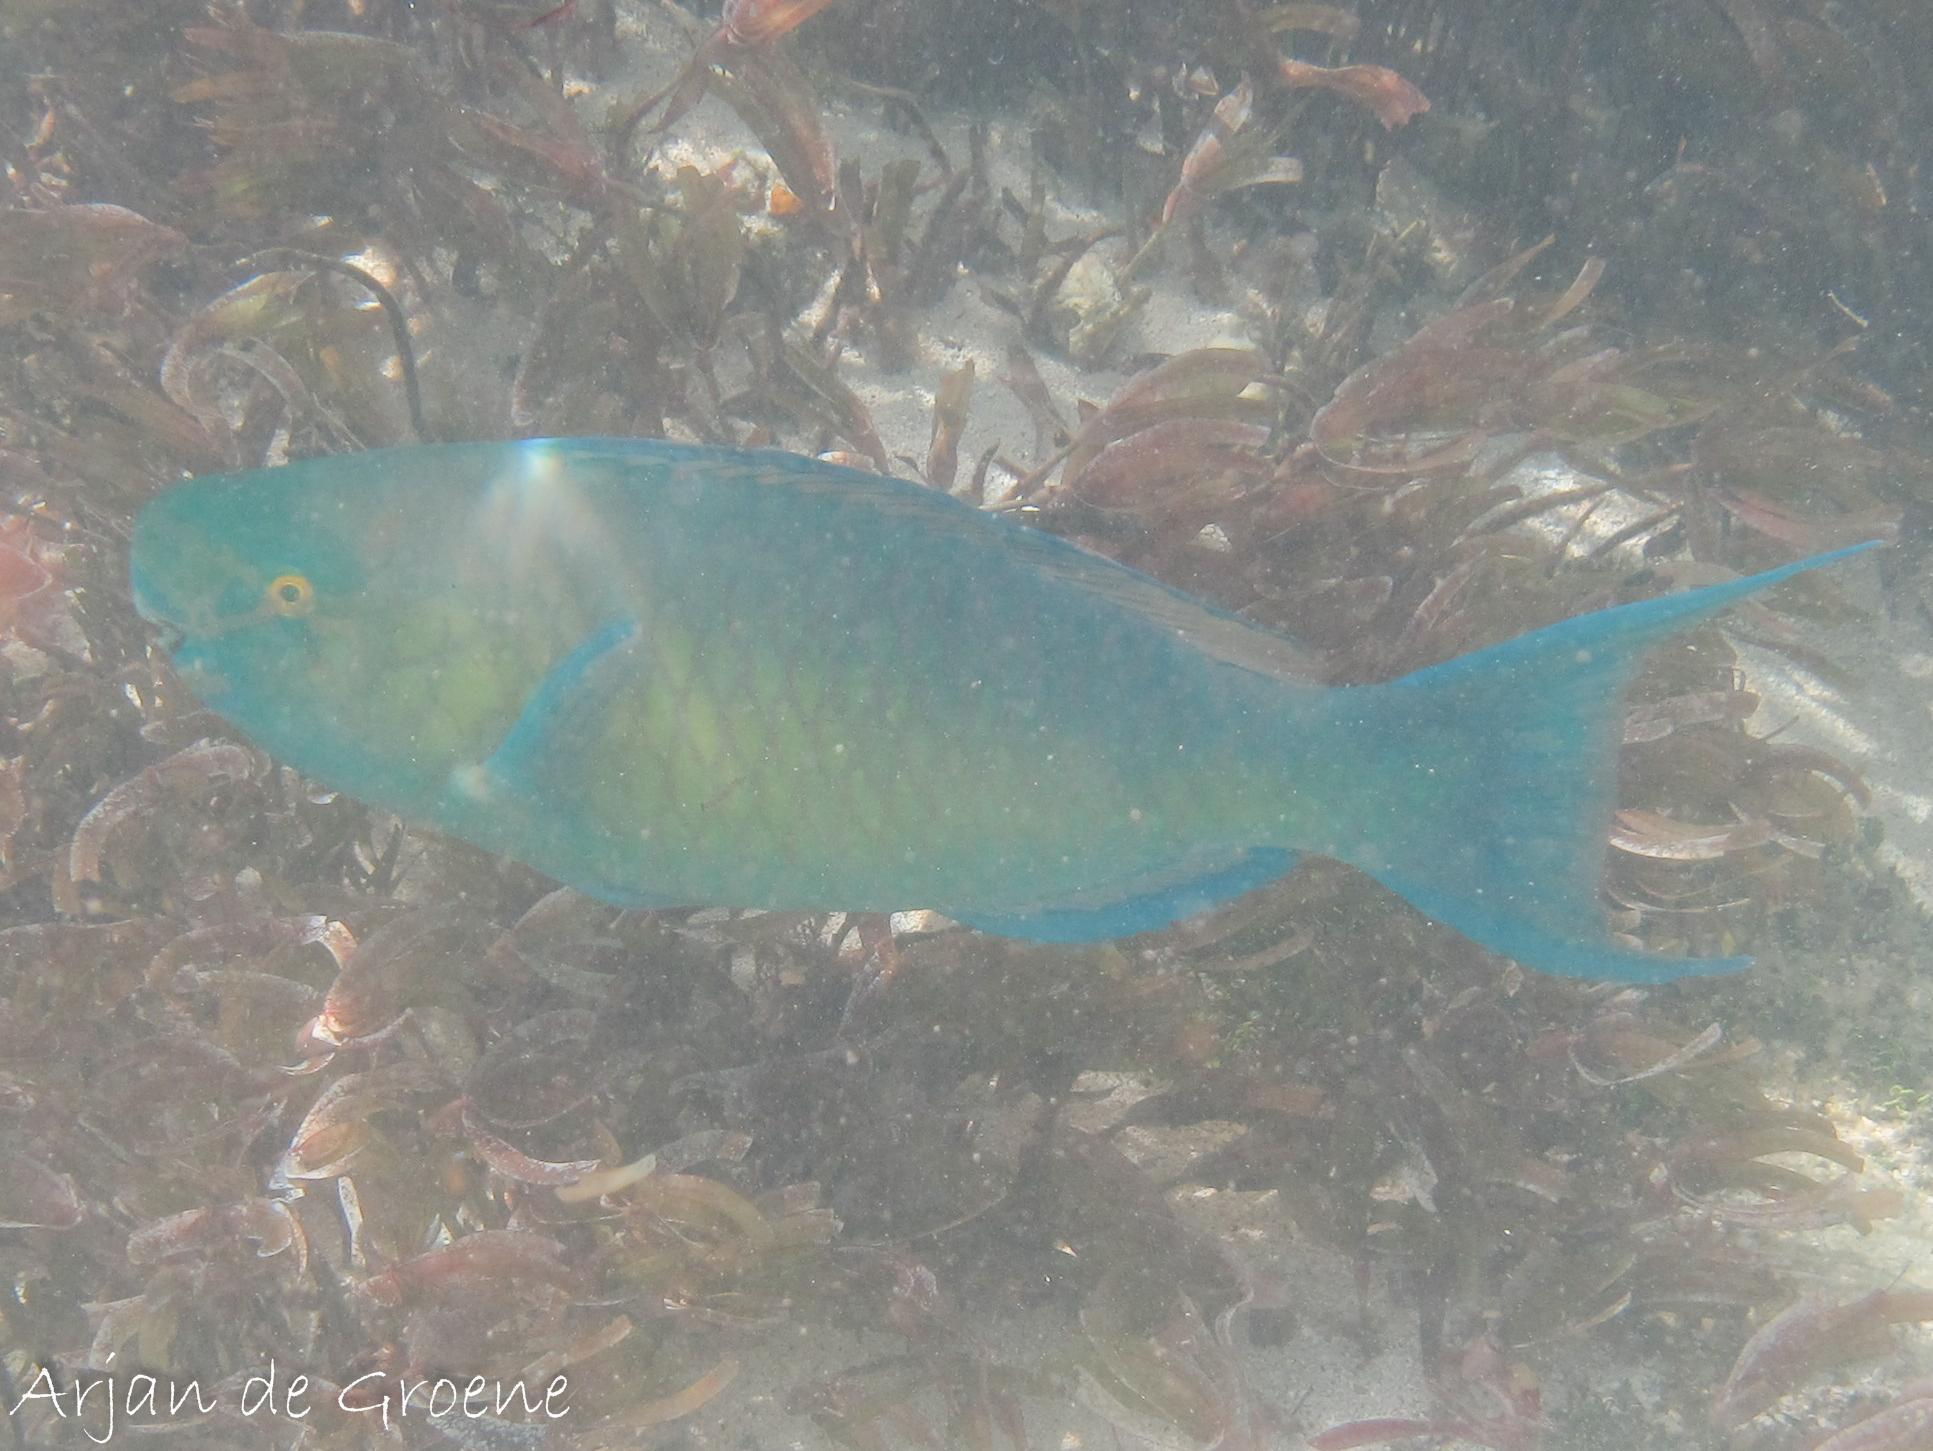Scarus rubroviolaceus: (79, 294, 1933, 1096)
